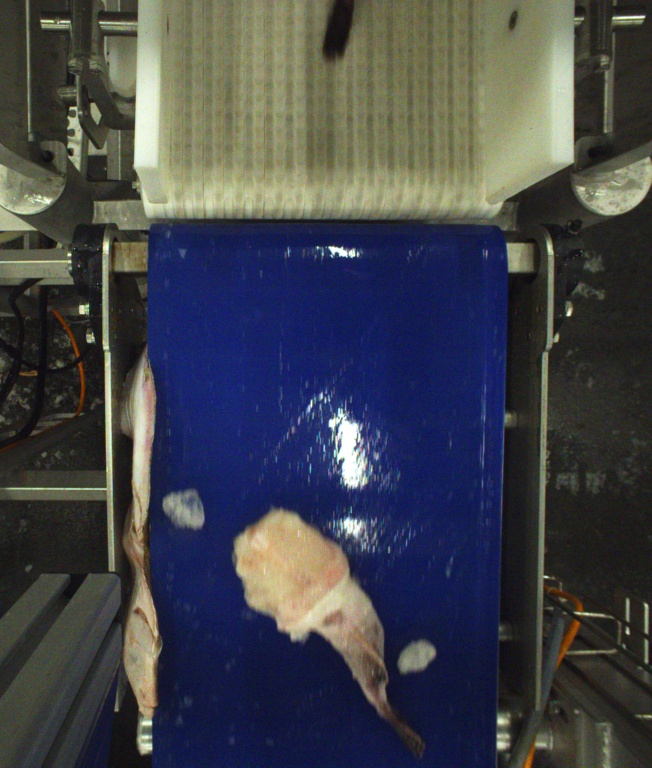ANF: (236, 506, 426, 756)
